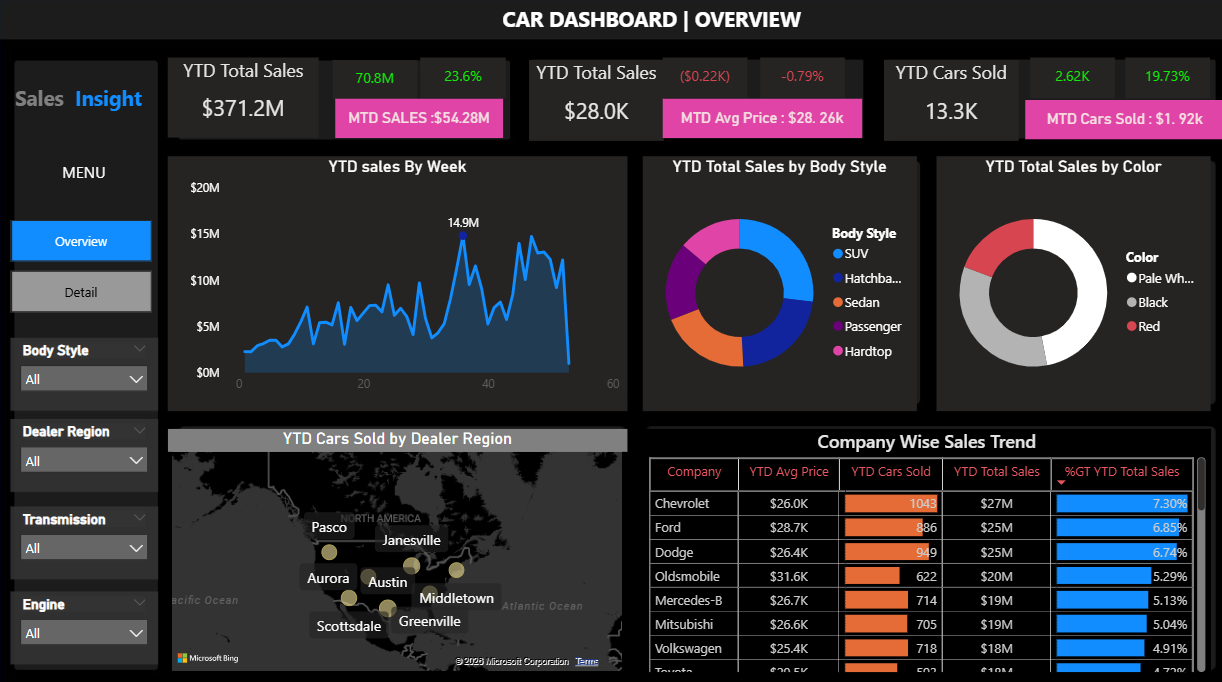

The dashboard page shown, as its layout file describes it:
{"tool":"powerbi","page":{"name":"Overview","canvas":[1280,720],"ordinal":0},"visuals":[{"type":"card","title":"YTD Total Sales","fields":{"Values":["car_data.YTD Total Sales"]},"box":[175.5,60.1,157.1,83.4],"z":0},{"type":"card","fields":{"Values":["car_data.dif sales"]},"box":[347.2,61.7,87.8,41.2],"z":1000},{"type":"card","fields":{"Values":["car_data.yoy sales diff"]},"box":[437.7,60.4,89.2,42.5],"z":2000},{"type":"card","fields":{"Values":["car_data.MTD SALES"]},"box":[349.9,102.9,174.3,41.2],"z":3000},{"type":"card","title":"YTD Total Sales","fields":{"Values":["car_data.YTD Avg Price"]},"box":[550.3,61.7,140,83.7],"z":4000},{"type":"card","fields":{"Values":["car_data.Avg Price Diff"]},"box":[690.2,60.4,87.8,42.5],"z":5000},{"type":"card","fields":{"Values":["car_data.YoY Avg Price Growth"]},"box":[790.4,60.4,87.8,42.5],"z":6000},{"type":"card","fields":{"Values":["car_data.MTD Avg Price KPI"]},"box":[690.2,102.9,207.2,41.2],"z":7000},{"type":"card","title":"YTD Cars Sold","fields":{"Values":["car_data.YTD Cars Sold"]},"box":[919.4,61.7,140,83.7],"z":8000},{"type":"card","fields":{"Values":["car_data.Cars Sold Diff"]},"box":[1071.7,60.4,87.8,42.5],"z":9000},{"type":"card","fields":{"Values":["car_data.YoY Car Sold Growth"]},"box":[1170.5,60.4,87.8,42.5],"z":10000},{"type":"card","fields":{"Values":["car_data.MTD Cars Sold KPI"]},"box":[1066.2,104.3,207.2,41.2],"z":11000},{"type":"lineChart","title":"YTD sales By Week","fields":{"Category":["Calendar Table.Week"],"Y":["Sum(car_data.Price ($))","car_data.Max Point"]},"box":[175.5,162,477.3,265],"z":12000},{"type":"donutChart","fields":{"Category":["car_data.Body Style"],"Y":["car_data.YTD Total Sales"]},"box":[668.7,162,284.7,265],"z":13000},{"type":"donutChart","fields":{"Y":["car_data.YTD Total Sales"],"Category":["car_data.Color"]},"box":[974.2,162,284.7,265],"z":14000},{"type":"map","title":"YTD Cars Sold by Dealer Region","fields":{"Category":["car_data.Dealer_Region"],"Size":["car_data.YTD Cars Sold"]},"box":[175.5,445.4,477.3,257.7],"z":15000},{"type":"tableEx","title":"Company Wise Sales Trend","fields":{"Values":["car_data.Company","car_data.YTD Avg Price","car_data.YTD Cars Sold","car_data.YTD Total Sales","Divide(car_data.YTD Total Sales, ScopedEval(car_data.YTD Total Sales, []))"]},"box":[668.7,445.4,590.2,257.7],"z":16000},{"type":"textbox","box":[0,0,1273.6,90.8],"z":17000},{"type":"slicer","fields":{"Values":["car_data.Body Style"]},"box":[11,350.9,153.4,76.1],"z":18000},{"type":"slicer","fields":{"Values":["car_data.Dealer_Region"]},"box":[11,435.6,153.4,76.1],"z":19000},{"type":"slicer","fields":{"Values":["car_data.Transmission"]},"box":[11,526.4,153.4,76.1],"z":20000},{"type":"slicer","fields":{"Values":["car_data.Engine"]},"box":[11,614.7,153.4,76.1],"z":21000},{"type":"textbox","box":[11,82.2,153.4,42.9],"z":22000},{"type":"textbox","box":[11,162,153.4,35.6],"z":23000},{"type":"pageNavigator","box":[11,228.2,147.2,96.9],"z":24000}]}

Visuals, with their boxes in screenshot pixels (x1, y1, x2, y2), scaled from the page's 1280x720 canvas onto the 1222x682 screenshot:
"YTD Total Sales" card: [168,57,318,136]
card - car_data.dif sales: [331,58,415,97]
card - car_data.yoy sales diff: [418,57,503,97]
card - car_data.MTD SALES: [334,97,500,136]
"YTD Total Sales" card: [525,58,659,138]
card - car_data.Avg Price Diff: [659,57,743,97]
card - car_data.YoY Avg Price Growth: [755,57,838,97]
card - car_data.MTD Avg Price KPI: [659,97,857,136]
"YTD Cars Sold" card: [878,58,1011,138]
card - car_data.Cars Sold Diff: [1023,57,1107,97]
card - car_data.YoY Car Sold Growth: [1117,57,1201,97]
card - car_data.MTD Cars Sold KPI: [1018,99,1216,138]
"YTD sales By Week" lineChart: [168,153,623,404]
donutChart - car_data.Body Style x car_data.YTD Total Sales: [638,153,910,404]
donutChart - car_data.YTD Total Sales x car_data.Color: [930,153,1202,404]
"YTD Cars Sold by Dealer Region" map: [168,422,623,666]
"Company Wise Sales Trend" tableEx: [638,422,1202,666]
textbox: [0,0,1216,86]
slicer - car_data.Body Style: [11,332,157,404]
slicer - car_data.Dealer_Region: [11,413,157,485]
slicer - car_data.Transmission: [11,499,157,571]
slicer - car_data.Engine: [11,582,157,654]
textbox: [11,78,157,118]
textbox: [11,153,157,187]
pageNavigator: [11,216,151,308]
